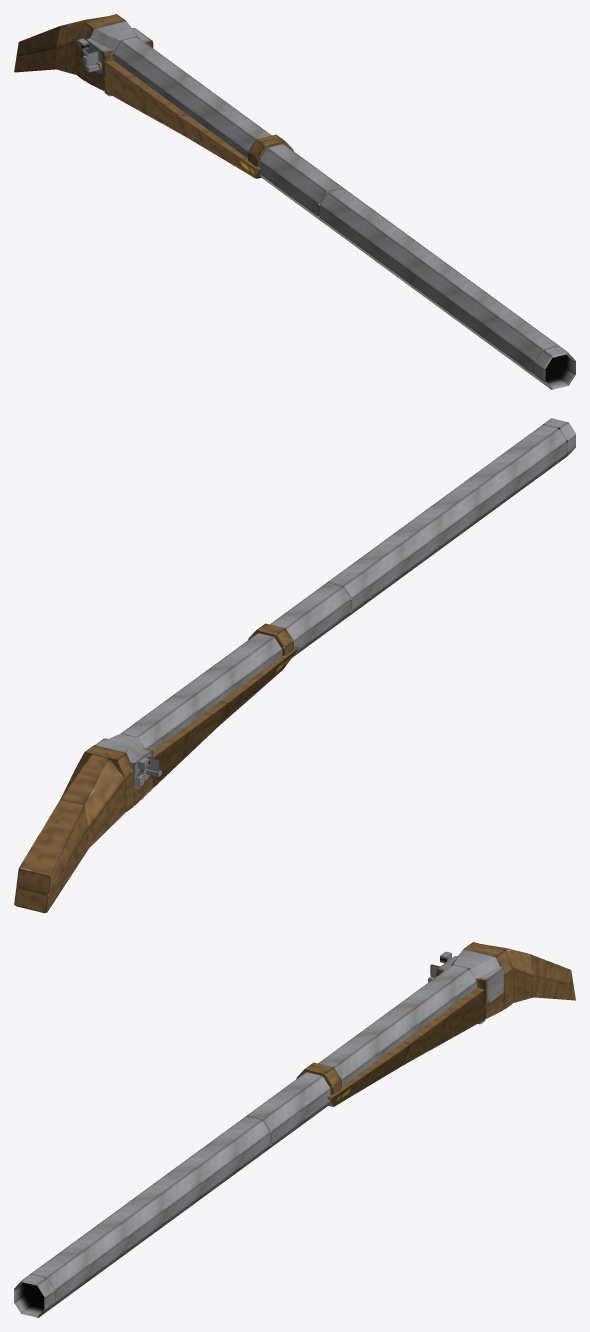
File: puntgun.obj
3 views of the same model, one above another, from view 1: azimuth 30°, elevation 25°; view 2: azimuth 150°, elevation 25°; view 3: azimuth 330°, elevation 25° (orthographic).
Visible parts, largest first — view 1: cuboid; view 2: cuboid; view 3: cuboid.
Part boxes in pixels (left/top/right/bottom): cuboid: left=14, top=14, right=575, bottom=389; cuboid: left=14, top=418, right=575, bottom=913; cuboid: left=14, top=942, right=575, bottom=1317.
Bounding box in the file's own units: 0.2344 × 0.3828 × 3.53.
